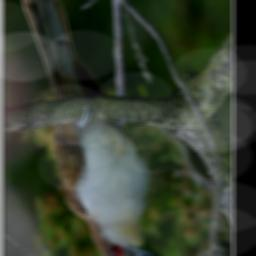Cuckoo: (12, 0, 159, 256)
